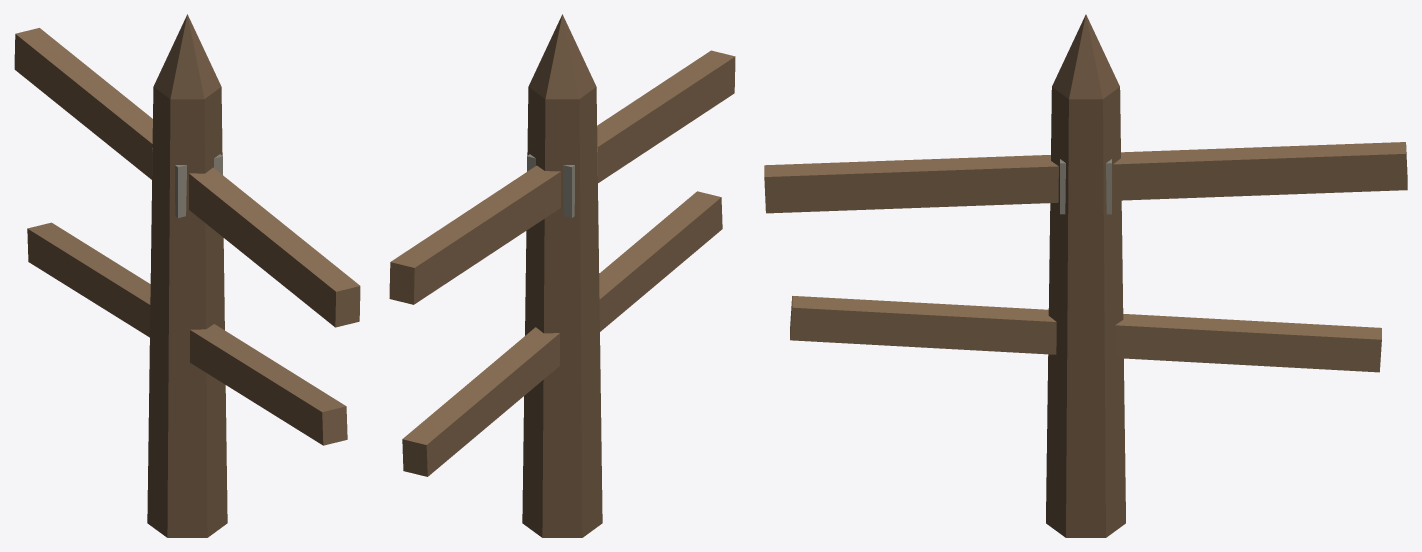
The model's file is fence.glb.
3 views of the same model, side by side, from view 1: azimuth 30°, elevation 25°; view 2: azimuth 150°, elevation 25°; view 3: azimuth 270°, elevation 25° (orthographic).
Visible parts, largest first — view 1: fence; view 2: fence; view 3: fence.
Boxes of the visible parts, left/top/right/bottom form: fence: left=14, top=14, right=360, bottom=537; fence: left=389, top=14, right=735, bottom=537; fence: left=764, top=14, right=1407, bottom=537.
Size of the model in its own units: 0.1732 by 1.4 by 1.6.
